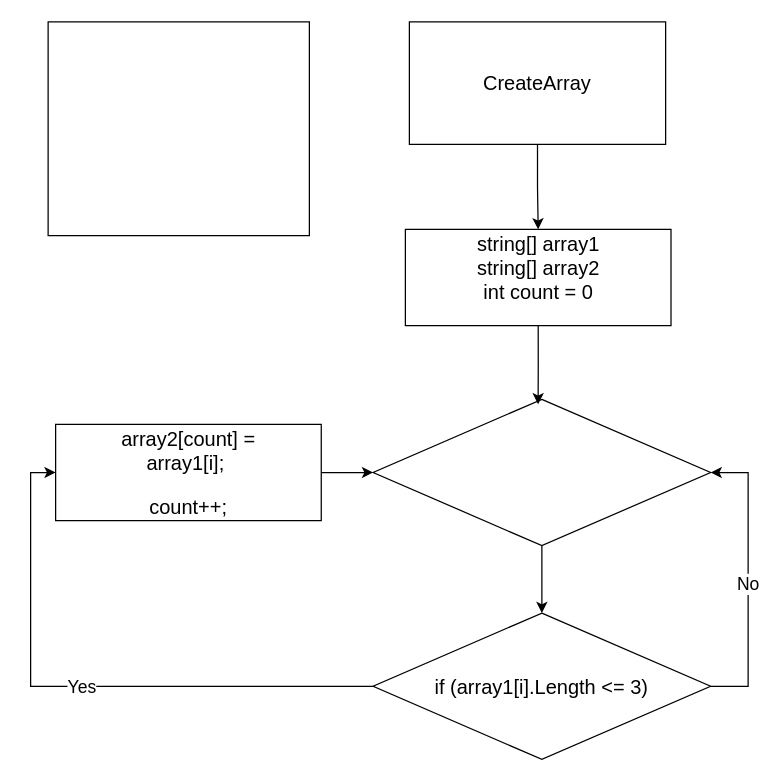
Some shapes in this 781 by 781 pixel diagram are drawn without their labels. The box of each missing label's shape, as (x1, y1, x2, y2) in pixels:
for (int i = 0; i < array1.Length; i++): (372, 398, 711, 546)
Блок-схема метода: (47, 21, 309, 236)
